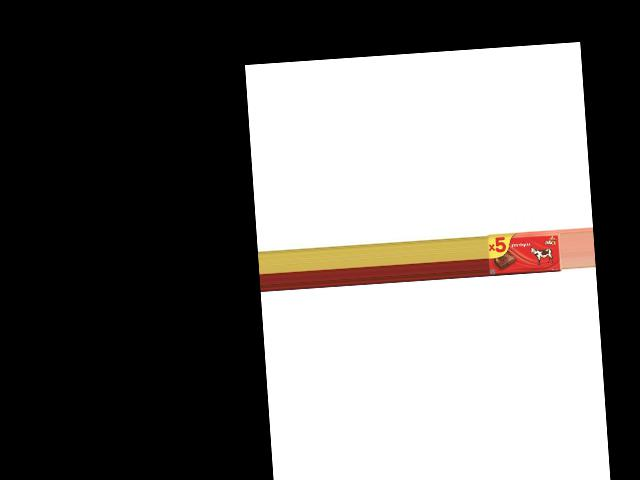chocolate: (487, 228, 563, 275)
